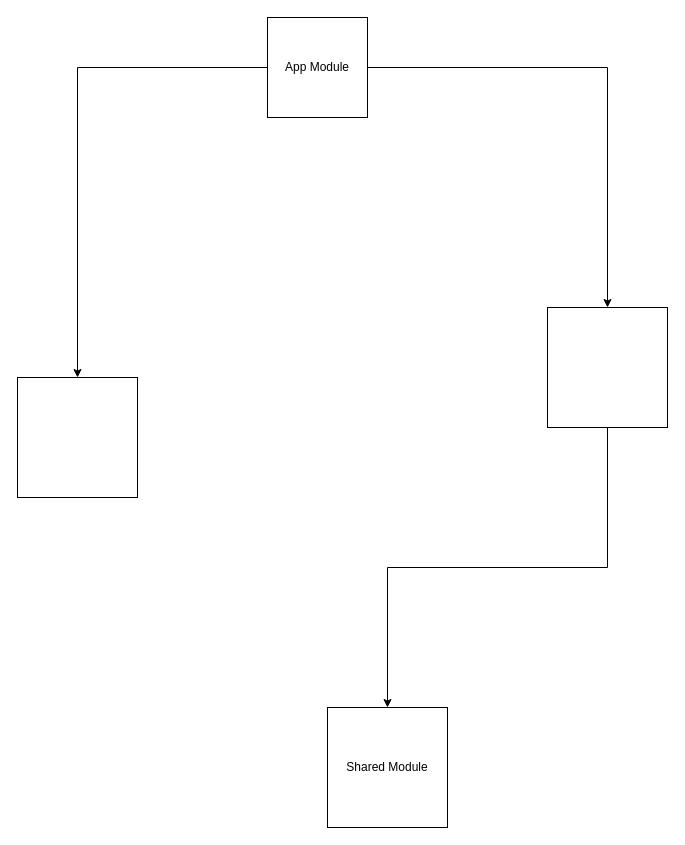
The diagram is 685 pixels wide and 845 high, and some of its shapes have lost their labels. Each missing label, with the centre of its shape:
Project module: the point at 77,437
User Module: the point at 607,367
